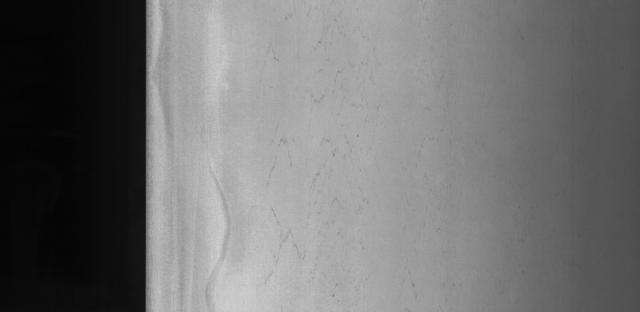silk_spot: (255, 7, 377, 290)
